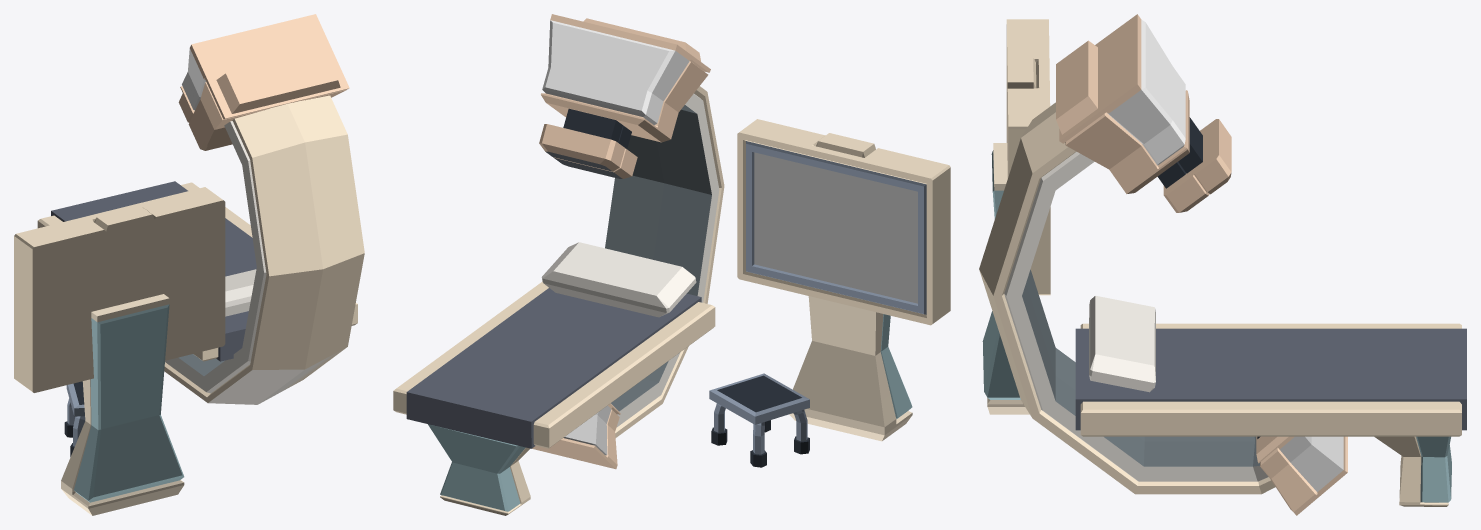
File: g_o_HeartAttackMedicalStation.fbx
3 renders of one model, left to right at view 1: azimuth 30°, elevation 25°; view 2: azimuth 150°, elevation 25°; view 3: azimuth 270°, elevation 25°, orthographic. The views are drawn at different scales.
Visible parts, largest first — view 1: bed, monitor1, stool; view 2: bed, monitor1, stool; view 3: bed, monitor1.
Boxes of the visible parts, left/top/right/bottom form: bed: left=37, top=14, right=364, bottom=404; monitor1: left=14, top=187, right=225, bottom=515; stool: left=64, top=381, right=85, bottom=456; bed: left=393, top=14, right=724, bottom=515; monitor1: left=737, top=119, right=950, bottom=441; stool: left=709, top=373, right=809, bottom=467; bed: left=979, top=14, right=1466, bottom=515; monitor1: left=982, top=19, right=1050, bottom=414.
Size of the model in its own units: 175 by 180 by 179.
